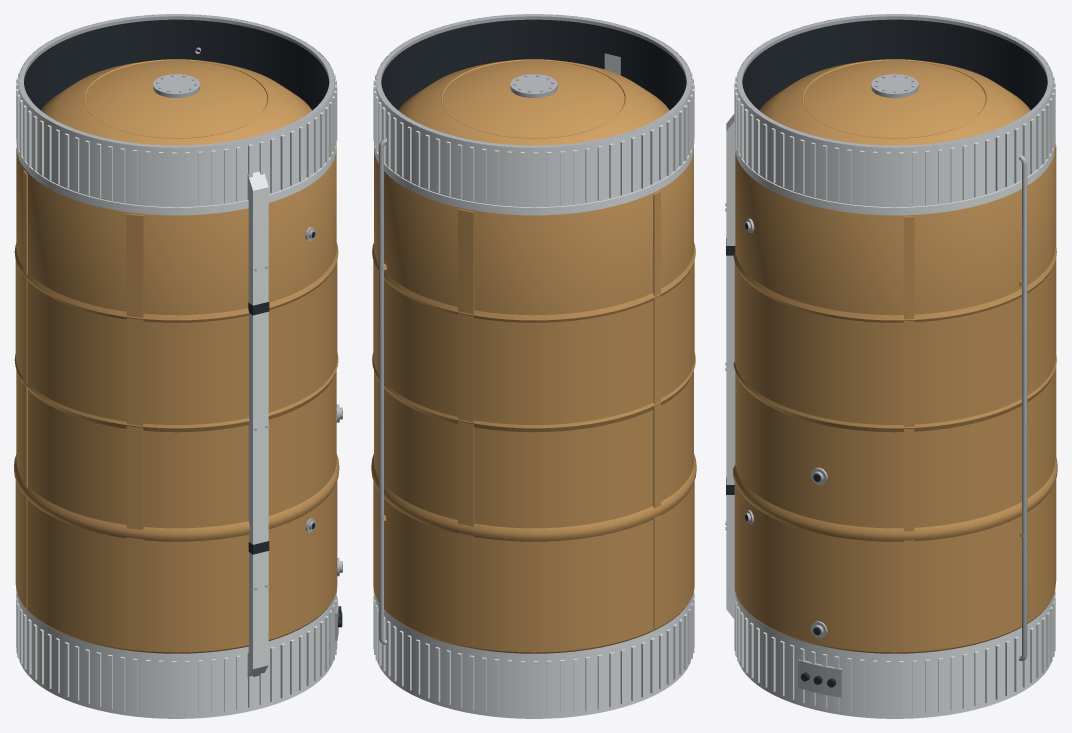
Rendered from tank_s2_xl_hydrolox.fbx.
3 renders of one model, left to right at view 1: azimuth 30°, elevation 25°; view 2: azimuth 150°, elevation 25°; view 3: azimuth 270°, elevation 25°, orthographic.
Visible parts, largest first — view 1: tank_s2_xl_hydrolox_LOD0; view 2: tank_s2_xl_hydrolox_LOD0; view 3: tank_s2_xl_hydrolox_LOD0.
Part boxes in pixels (x1,y1,x2,y2): tank_s2_xl_hydrolox_LOD0: [14, 14, 342, 718]; tank_s2_xl_hydrolox_LOD0: [371, 14, 696, 718]; tank_s2_xl_hydrolox_LOD0: [725, 14, 1057, 718].
Size of what is drawn, in the model's own units: 8.62 by 16.7 by 8.81.
